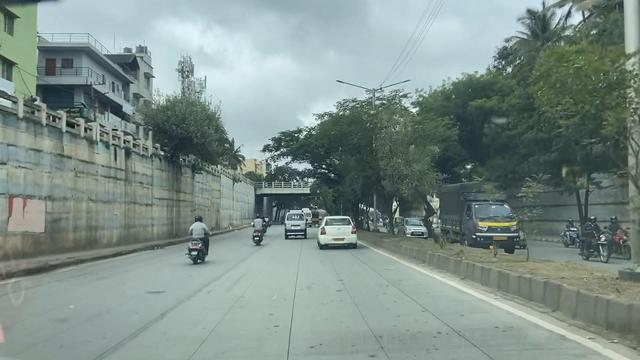LMV: (310, 218, 366, 251), (188, 203, 216, 267)
